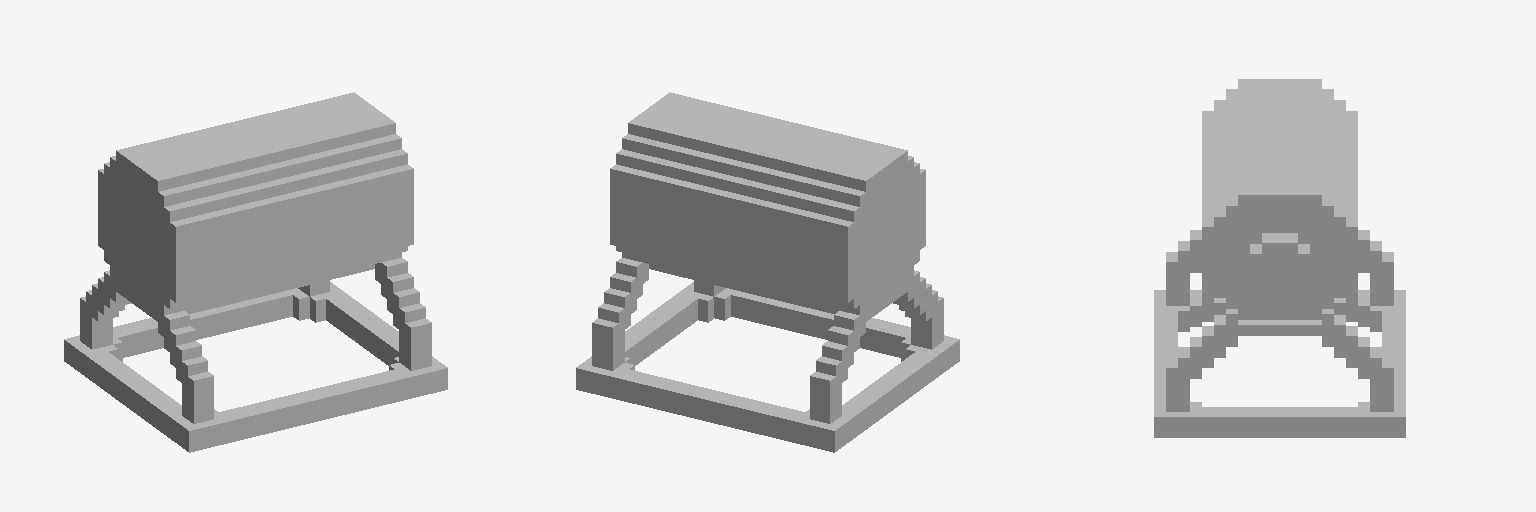
File: generator.obj
3 views of the same model, side by side, from view 1: azimuth 30°, elevation 25°; view 2: azimuth 150°, elevation 25°; view 3: azimuth 270°, elevation 25° (orthographic).
Bounding box in the file's own units: 1 × 0.88 × 0.84.